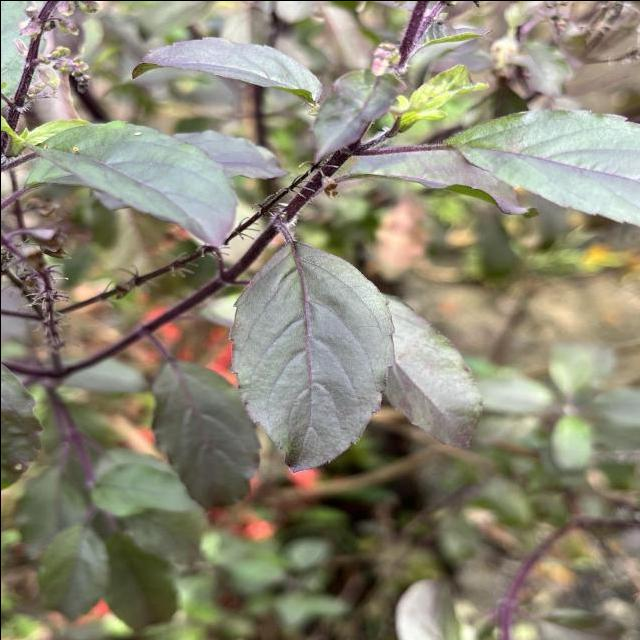Ocimum tenuiflorum: (225, 241, 398, 476)
